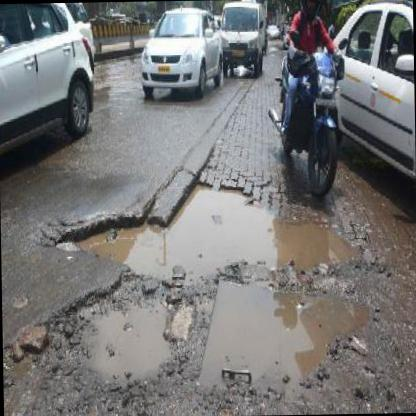pothole: (47, 169, 356, 276), (193, 269, 373, 392), (64, 273, 180, 384)
